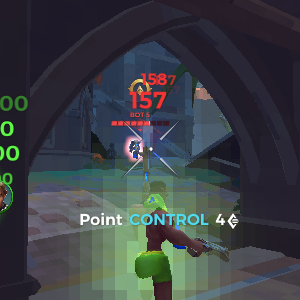model: (126, 134, 142, 163)
